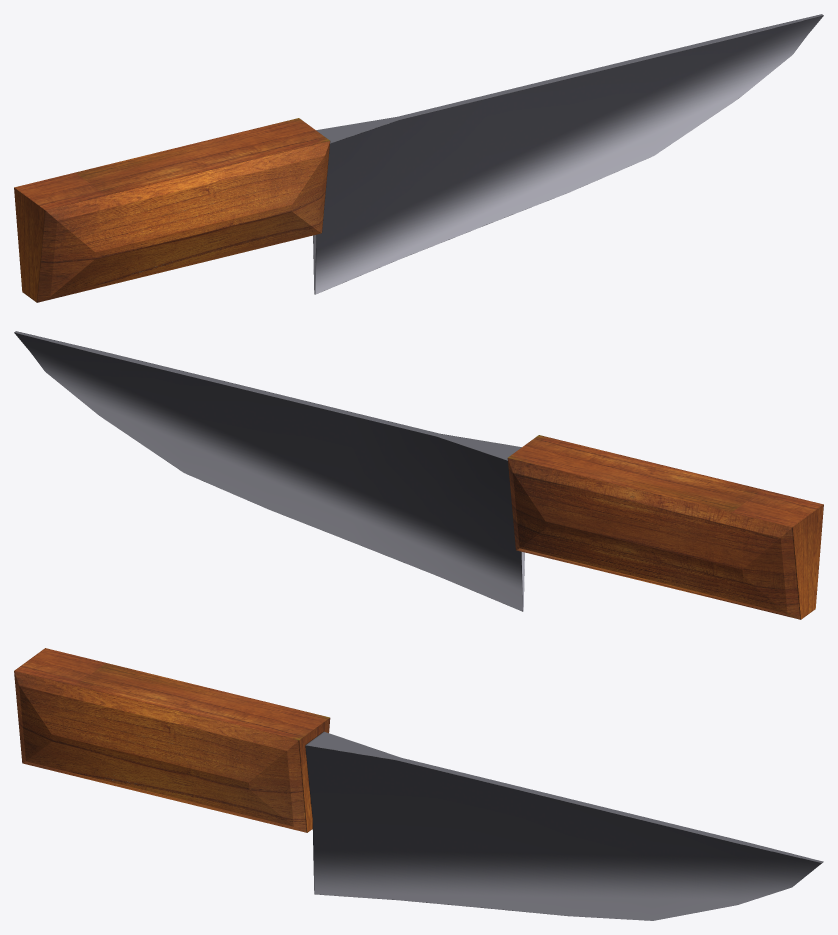
The model's file is cuchillo.FBX.
3 views of the same model, one above another, from view 1: azimuth 30°, elevation 25°; view 2: azimuth 150°, elevation 25°; view 3: azimuth 330°, elevation 25° (orthographic).
Parts seen in each view (by area): view 1: Box001; view 2: Box001; view 3: Box001.
Part boxes in pixels (x1=…): Box001: x1=14, y1=14, x2=823, y2=302; Box001: x1=14, y1=331, x2=823, y2=619; Box001: x1=14, y1=648, x2=823, y2=920.
Bounding box in the file's own units: 92.17 × 18.33 × 8.79.
